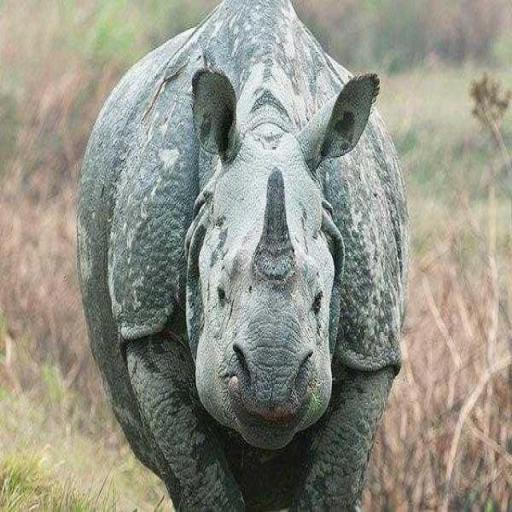Rhino: (74, 0, 410, 510)
